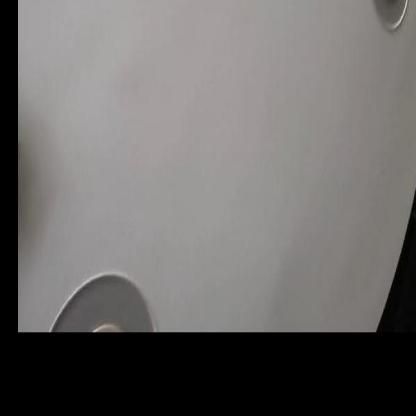light_off: (40, 234, 165, 331), (354, 0, 415, 37)
